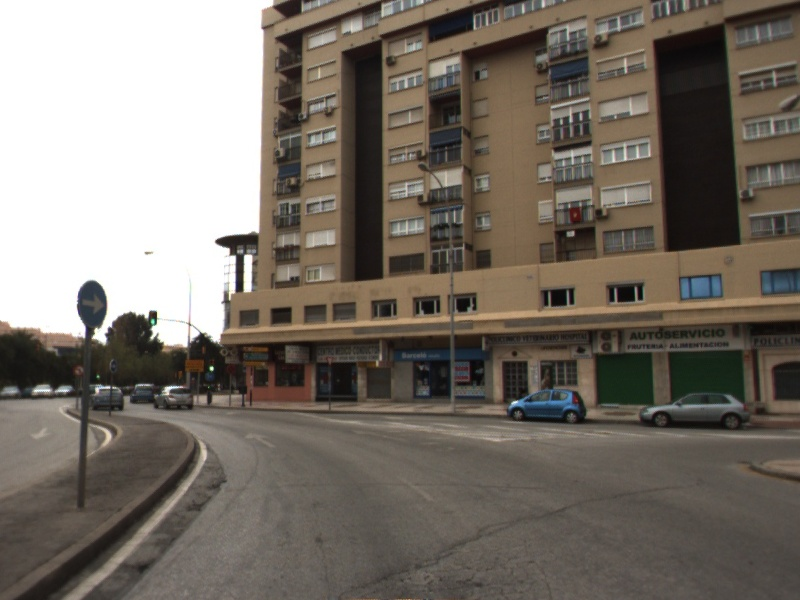STRAIGHT: (243, 430, 279, 450)
